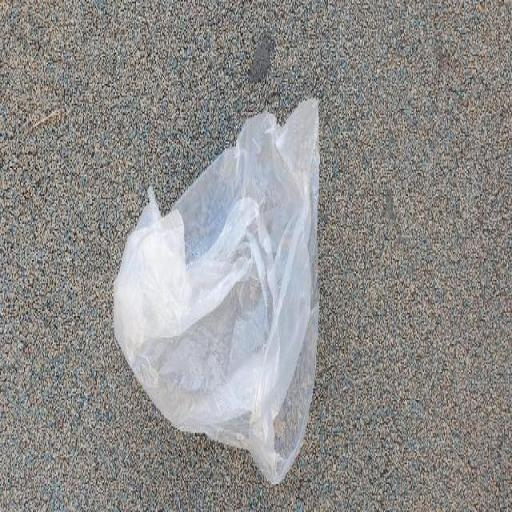plastic-bag: (111, 90, 324, 488)
